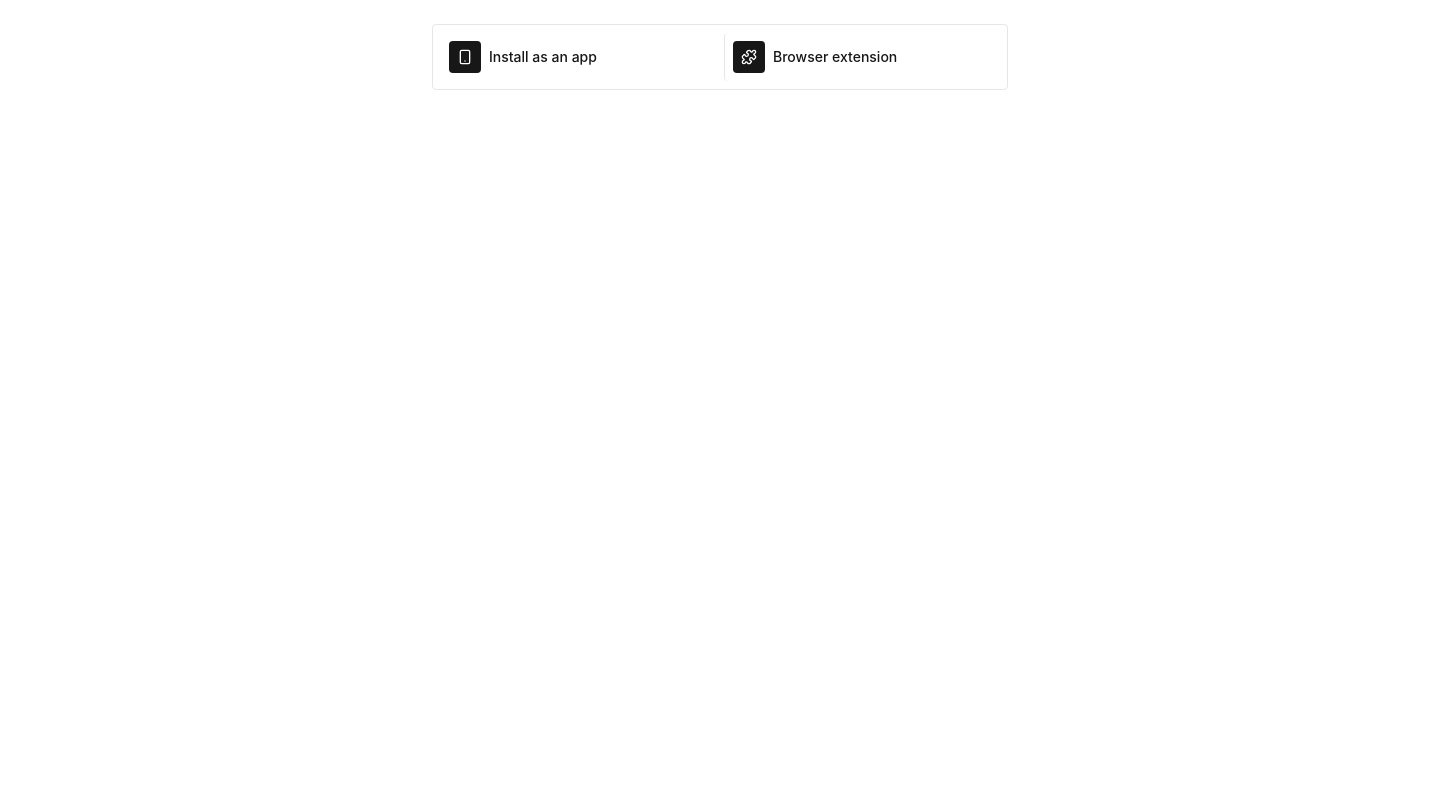
Test: InstallPrompt BIP dialog › still opens the install-as-app dialog from a click (keyboard / fallback path)
Click the button "Install as an app".
click(578, 57)  # box [441, 33, 716, 81]
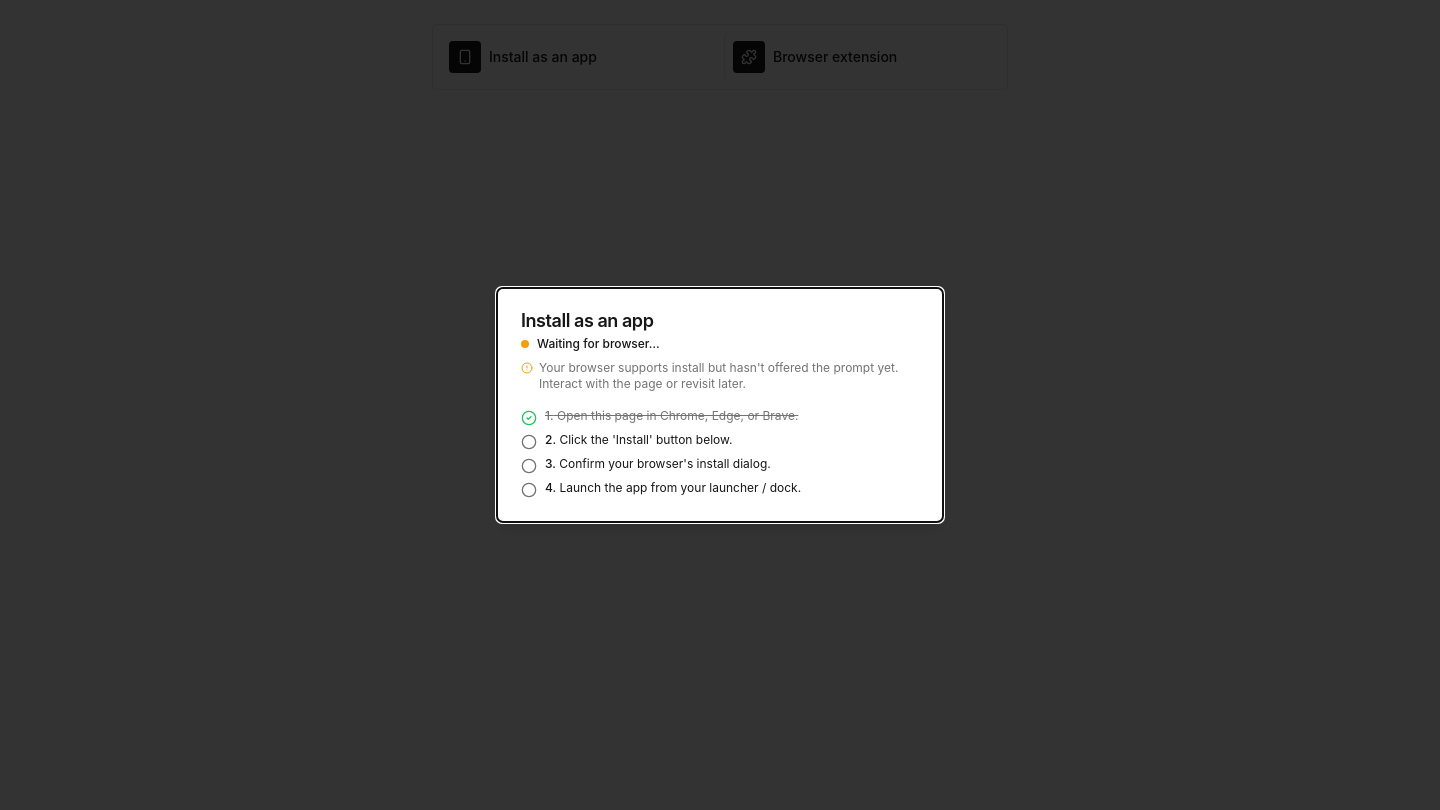
Now the dialog is shown, box [496, 287, 944, 523]
